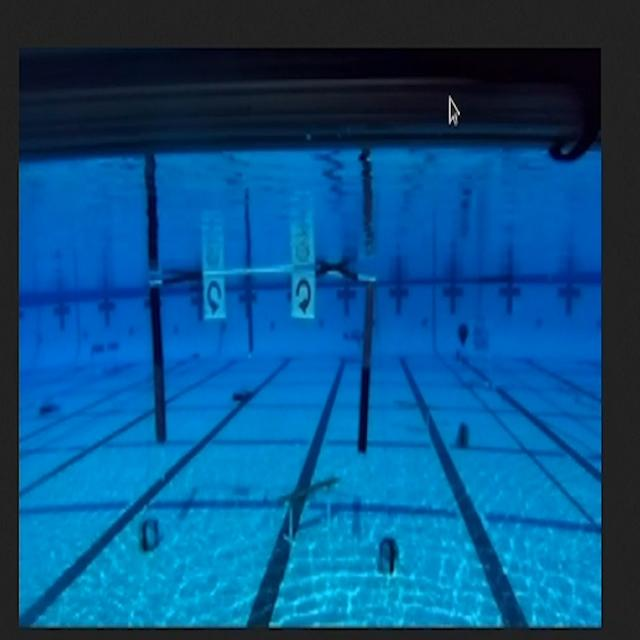Gate: (143, 264, 380, 465)
